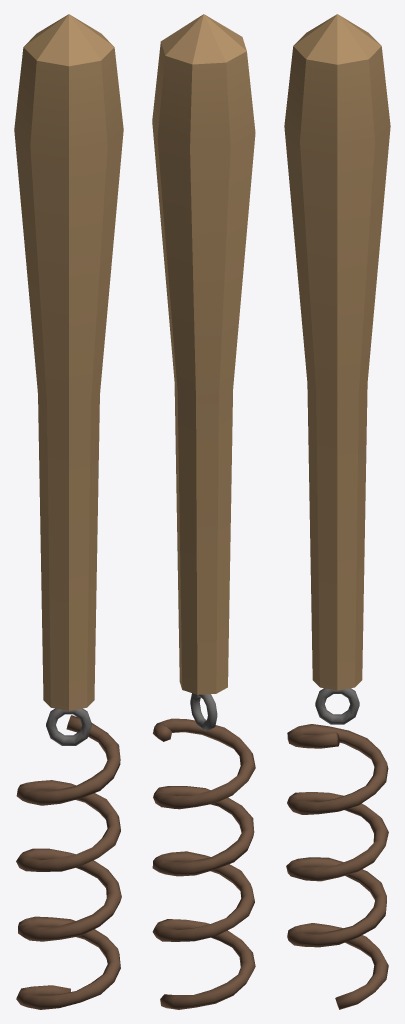
File: aklys.glb
3 renders of one model, left to right at view 1: azimuth 90°, elevation 25°; view 2: azimuth 210°, elevation 25°; view 3: azimuth 270°, elevation 25°, orthographic. The views are drawn at different scales.
Parts seen in each view (by area): view 1: aklys; view 2: aklys; view 3: aklys.
Part boxes in pixels (<box>): aklys: <box>14,14,123,1009</box>; aklys: <box>152,14,255,1009</box>; aklys: <box>284,14,390,1009</box>.
Bounding box in the file's own units: 0.12 × 1.22 × 0.12.
